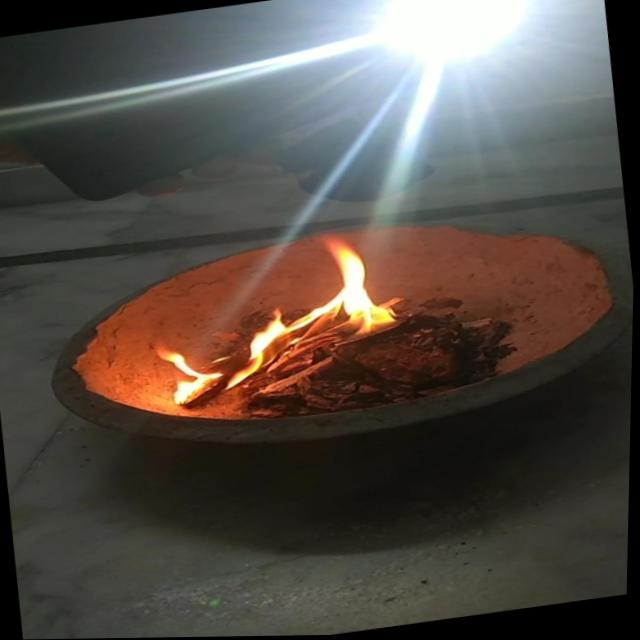fire: (146, 227, 407, 407)
